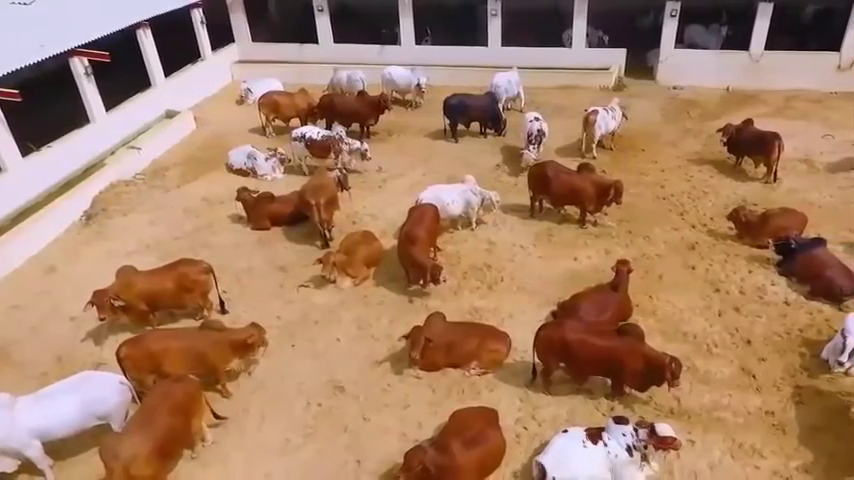bo: (2, 357, 140, 476), (528, 303, 684, 406), (520, 395, 686, 480), (116, 305, 268, 394), (98, 373, 224, 477), (66, 245, 223, 328), (382, 392, 510, 478), (395, 303, 516, 389), (522, 143, 628, 227), (545, 250, 647, 328), (768, 223, 854, 314), (389, 194, 455, 295), (411, 168, 504, 234), (302, 227, 386, 297), (710, 112, 792, 181), (288, 151, 349, 243), (435, 82, 510, 149), (288, 122, 377, 176), (223, 175, 299, 235), (718, 193, 805, 245), (317, 84, 395, 142), (224, 131, 293, 182), (670, 11, 739, 59), (380, 58, 431, 119), (580, 93, 625, 162), (549, 11, 614, 58), (256, 87, 323, 128), (511, 101, 549, 166), (485, 59, 526, 116), (323, 63, 368, 100), (235, 76, 286, 104)
